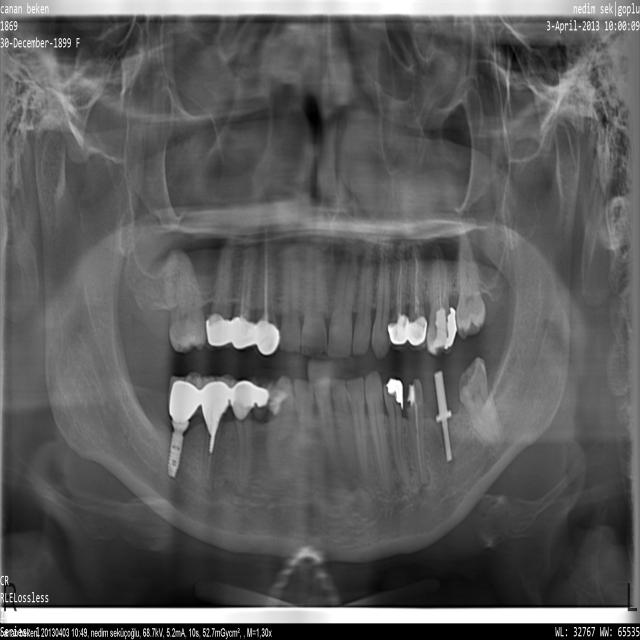Canine: (254, 222, 277, 359), (365, 371, 389, 491), (372, 230, 391, 360), (267, 376, 293, 468)
Incisores: (328, 237, 356, 358), (301, 246, 328, 359), (353, 236, 378, 355), (330, 379, 356, 472), (280, 246, 300, 352), (346, 378, 367, 470), (312, 377, 336, 457), (294, 378, 312, 447)
Premolars: (231, 217, 260, 352), (206, 232, 236, 350), (383, 382, 411, 490), (389, 240, 411, 352), (248, 377, 274, 468), (230, 381, 250, 493), (407, 379, 428, 485), (408, 242, 425, 350)
molars: (167, 250, 206, 352), (202, 375, 236, 491), (166, 373, 203, 478), (459, 358, 502, 445), (456, 218, 486, 340), (427, 246, 454, 355), (434, 370, 452, 462)
